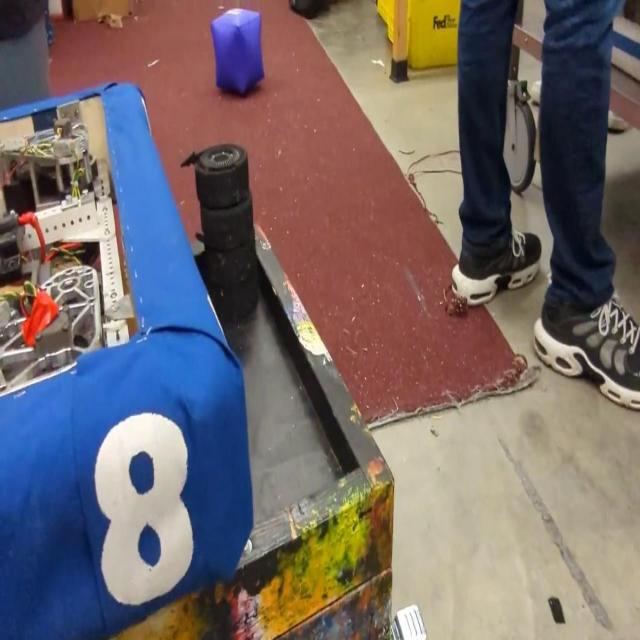frc_cube: (211, 6, 263, 96)
